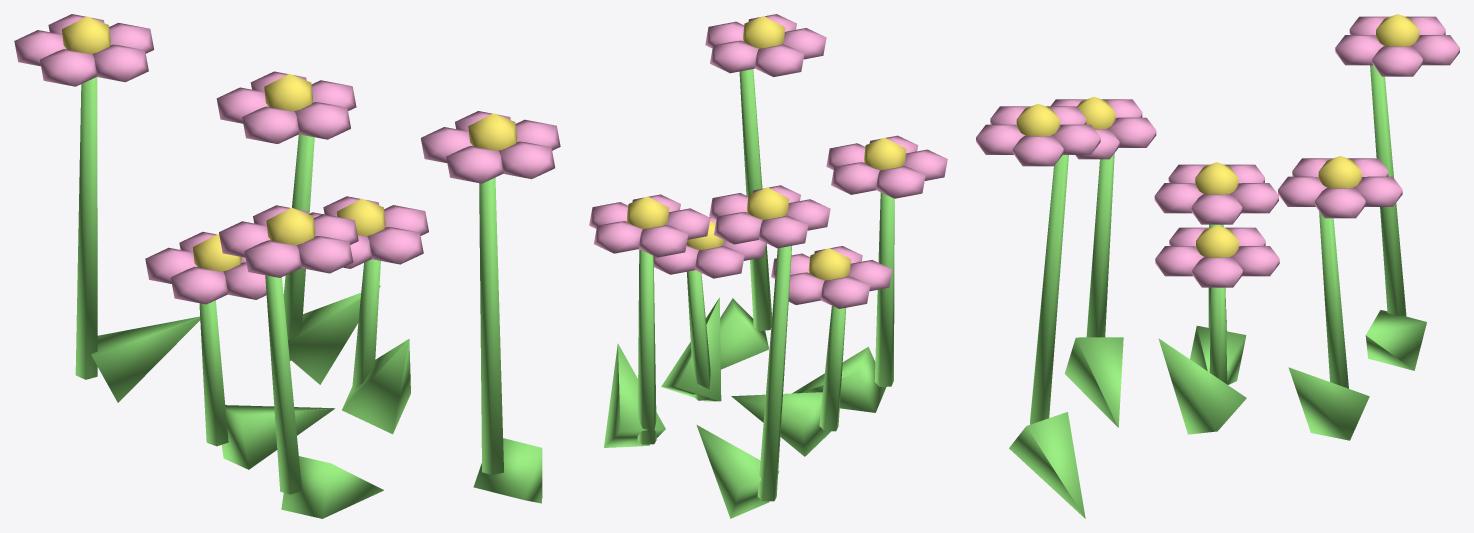
File: flowers.fbx
The picture shows the model from 3 angles, left to right: view 1: azimuth 30°, elevation 25°; view 2: azimuth 150°, elevation 25°; view 3: azimuth 270°, elevation 25°; orthographic projection. The views are drawn at different scales.
Parts seen in each view (by area): view 1: Blade_flowers, Petal_flowers, Core_flowers; view 2: Blade_flowers, Petal_flowers, Core_flowers; view 3: Blade_flowers, Petal_flowers, Core_flowers.
Boxes of the visible parts, x1=… form: Blade_flowers: x1=75, y1=77, x2=542, y2=518; Petal_flowers: x1=14, y1=14, x2=560, y2=304; Core_flowers: x1=62, y1=16, x2=517, y2=271; Blade_flowers: x1=604, y1=69, x2=894, y2=518; Petal_flowers: x1=589, y1=14, x2=947, y2=308; Core_flowers: x1=627, y1=16, x2=906, y2=280; Blade_flowers: x1=1009, y1=65, x2=1426, y2=518; Petal_flowers: x1=976, y1=16, x2=1459, y2=287; Core_flowers: x1=1016, y1=14, x2=1419, y2=257.
Size of the model in its own units: 1.17 by 1.42 by 1.62.
